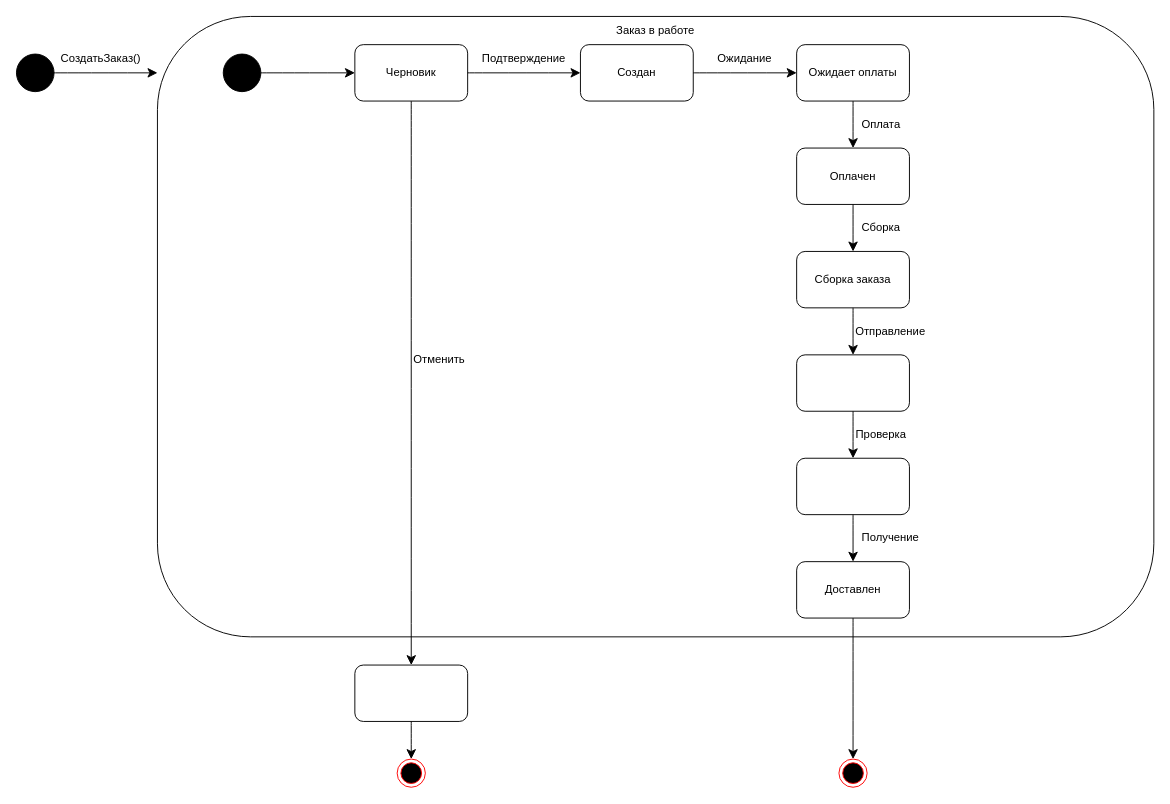
This 1170x804 diagram has some shape labels left out. Here are the shapes that lost their labels. From the top down, the centre of each, then its label:
the point at 852,382: Отправлен
the point at 852,486: Проверен заказчиком
the point at 411,692: Отменён
